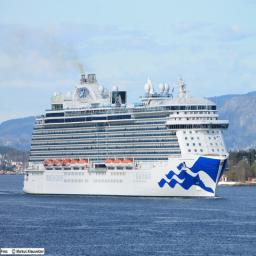cruises: (22, 73, 233, 202)
